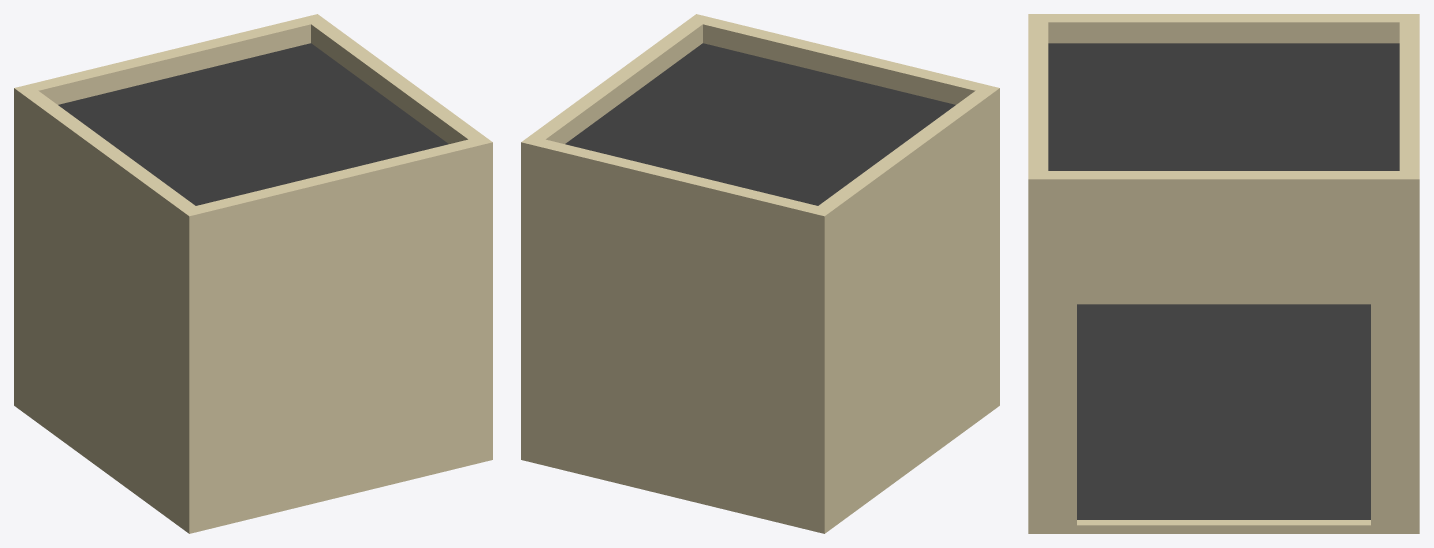
File: Haus.fbx
3 renders of one model, left to right at view 1: azimuth 30°, elevation 25°; view 2: azimuth 150°, elevation 25°; view 3: azimuth 270°, elevation 25°, orthographic. The views are drawn at different scales.
Visible parts, largest first — view 1: Strandhaus; view 2: Strandhaus; view 3: Strandhaus, GaragenTor.
Boxes of the visible parts, x1,y1,x2,y2 form: Strandhaus: (14, 14, 492, 533); Strandhaus: (521, 14, 999, 533); Strandhaus: (1028, 14, 1419, 533); GaragenTor: (1077, 304, 1370, 519).
Bounding box in the file's own units: 200 × 201 × 200.
